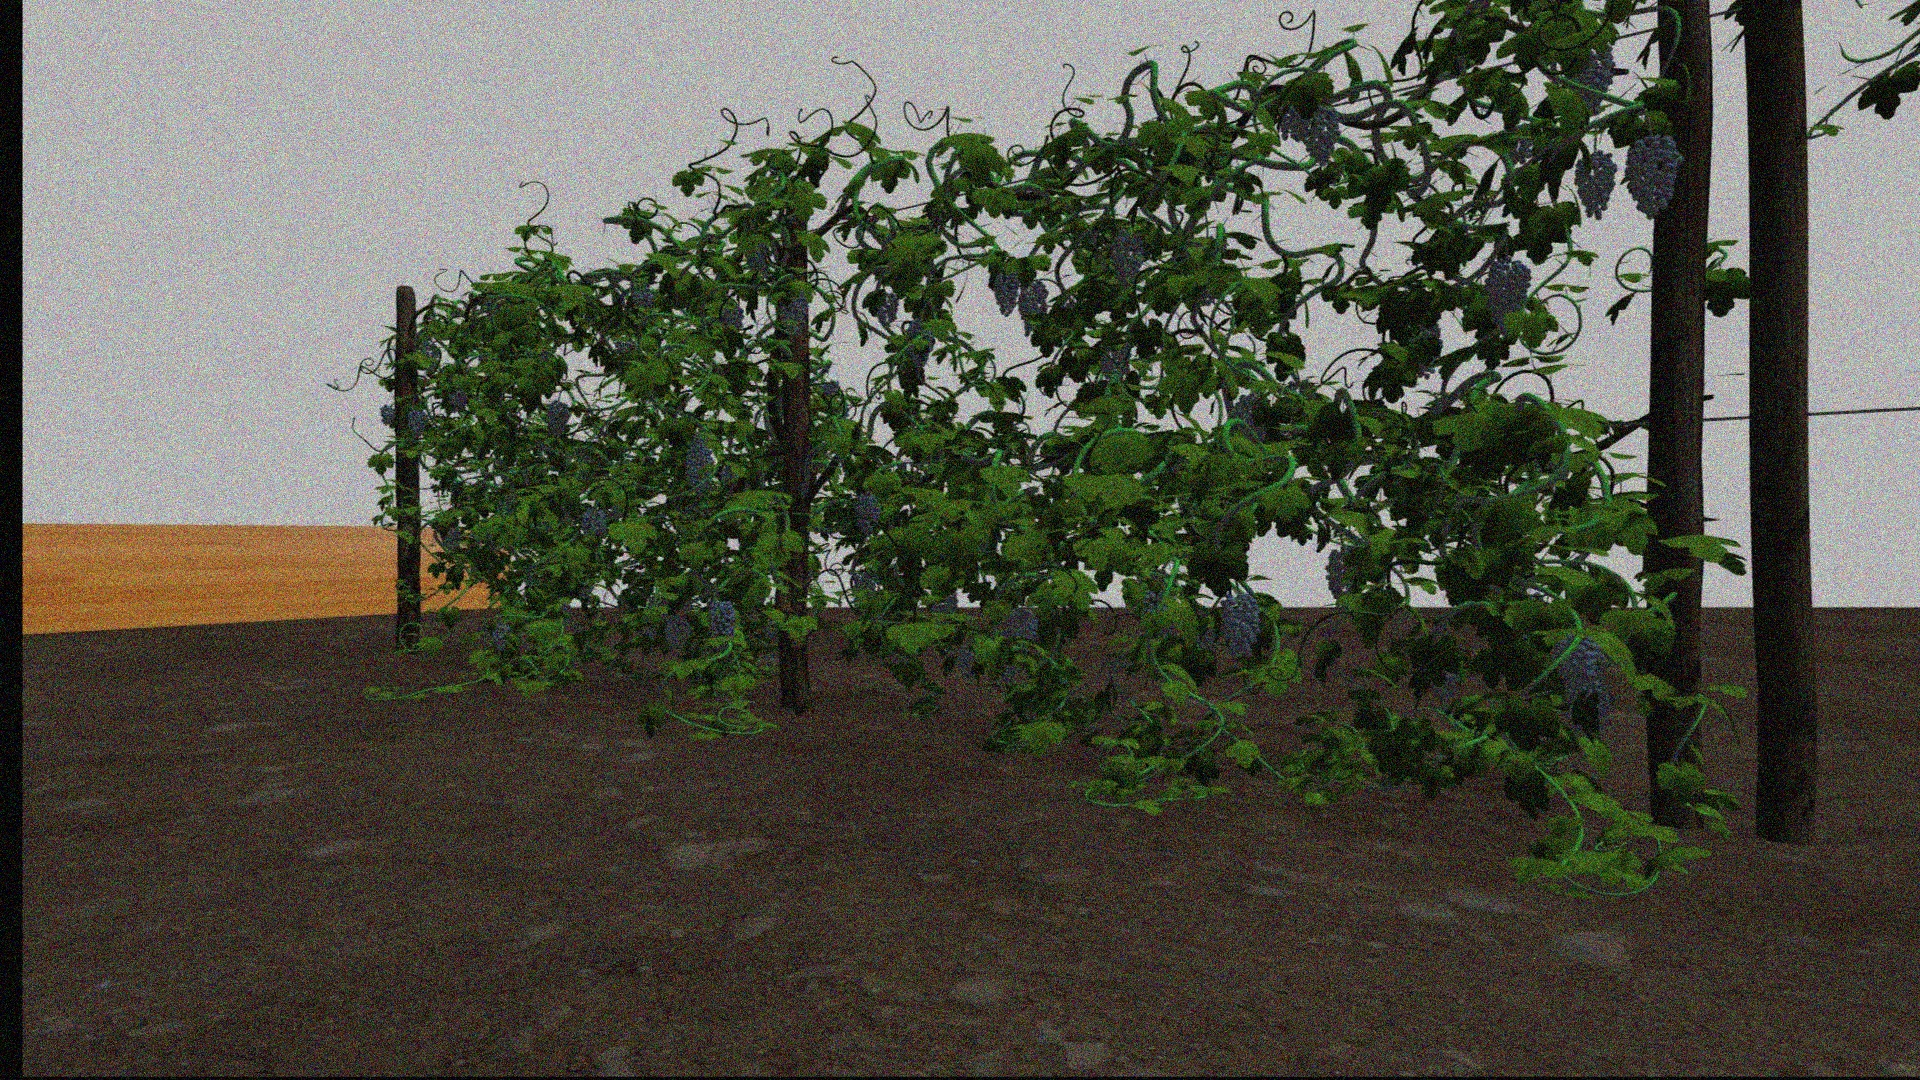grape: (1551, 636, 1614, 735), (1625, 133, 1683, 218), (1482, 255, 1532, 332), (1573, 149, 1615, 222), (1567, 46, 1615, 107), (1220, 593, 1261, 661), (1324, 547, 1364, 611), (1304, 100, 1341, 164), (1109, 228, 1145, 284), (1019, 280, 1048, 338), (684, 443, 715, 498), (992, 258, 1021, 315), (777, 287, 808, 338), (1276, 95, 1311, 141), (1004, 607, 1039, 646), (855, 491, 885, 534), (707, 597, 738, 636), (662, 613, 691, 653), (545, 400, 572, 439), (955, 642, 981, 683), (580, 506, 607, 541), (489, 621, 516, 651), (406, 407, 427, 435), (721, 307, 745, 328), (632, 287, 653, 309), (448, 389, 468, 410), (378, 404, 396, 426)
